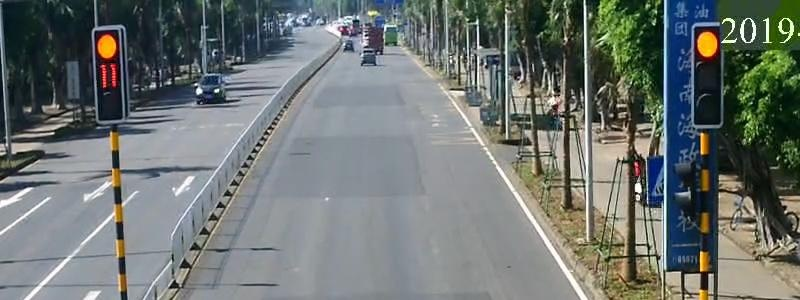red: (689, 22, 720, 68), (89, 31, 126, 63)
redtime: (92, 63, 129, 97)
